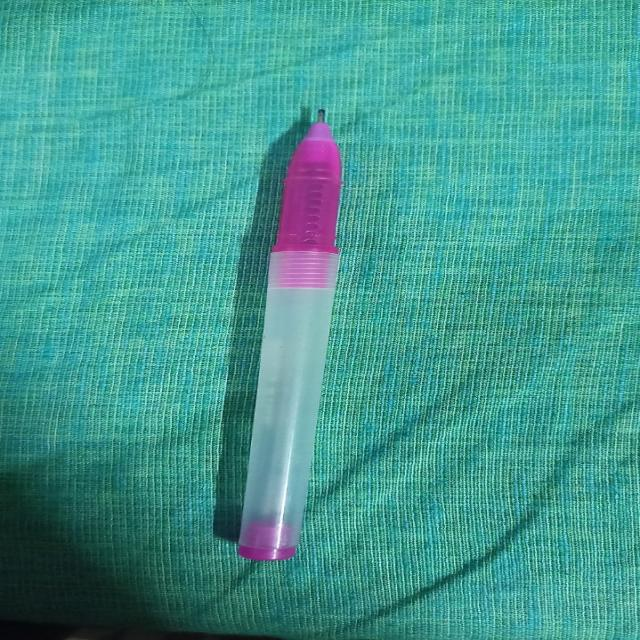pen: (238, 95, 350, 572)
